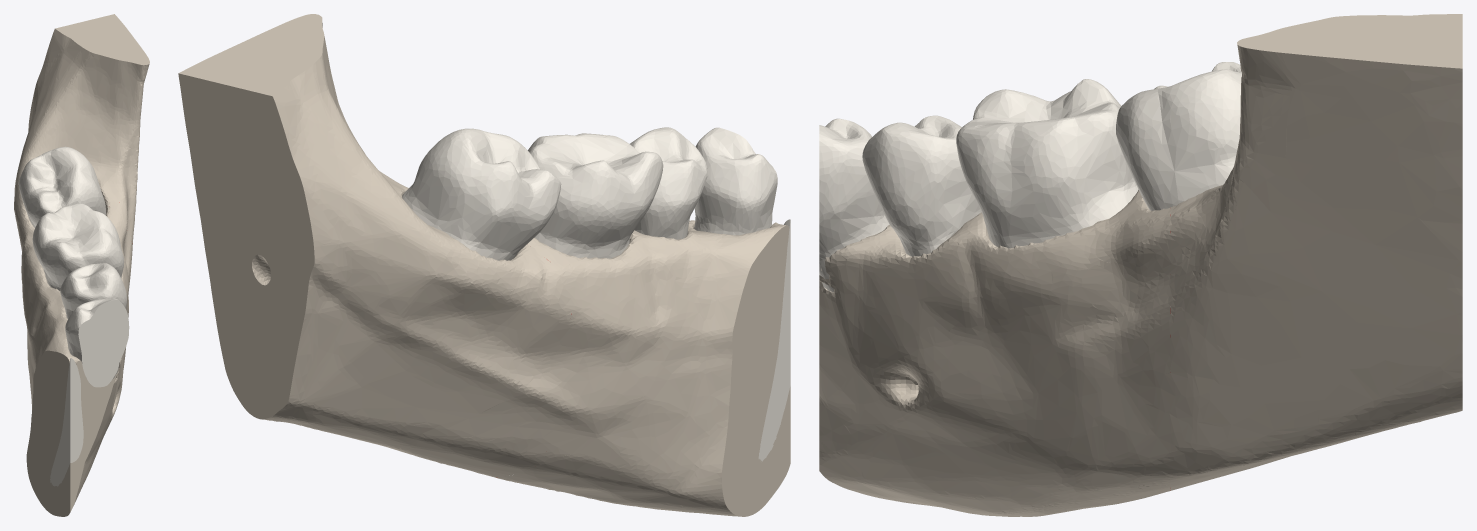
File: 2-lined-up.glb
3 renders of one model, left to right at view 1: azimuth 30°, elevation 25°; view 2: azimuth 150°, elevation 25°; view 3: azimuth 270°, elevation 25°, orthographic. The views are drawn at different scales.
Visible parts, largest first — view 1: bone, teeth; view 2: bone, teeth; view 3: bone, teeth.
Boxes of the visible parts, x1,y1,x2,y2 form: bone: [14, 14, 149, 516]; teeth: [18, 146, 129, 486]; bone: [178, 14, 790, 516]; teeth: [402, 127, 790, 461]; bone: [819, 14, 1462, 516]; teeth: [819, 62, 1241, 292].
Bounding box in the file's own units: 0.032 × 0.0474 × 0.044.
